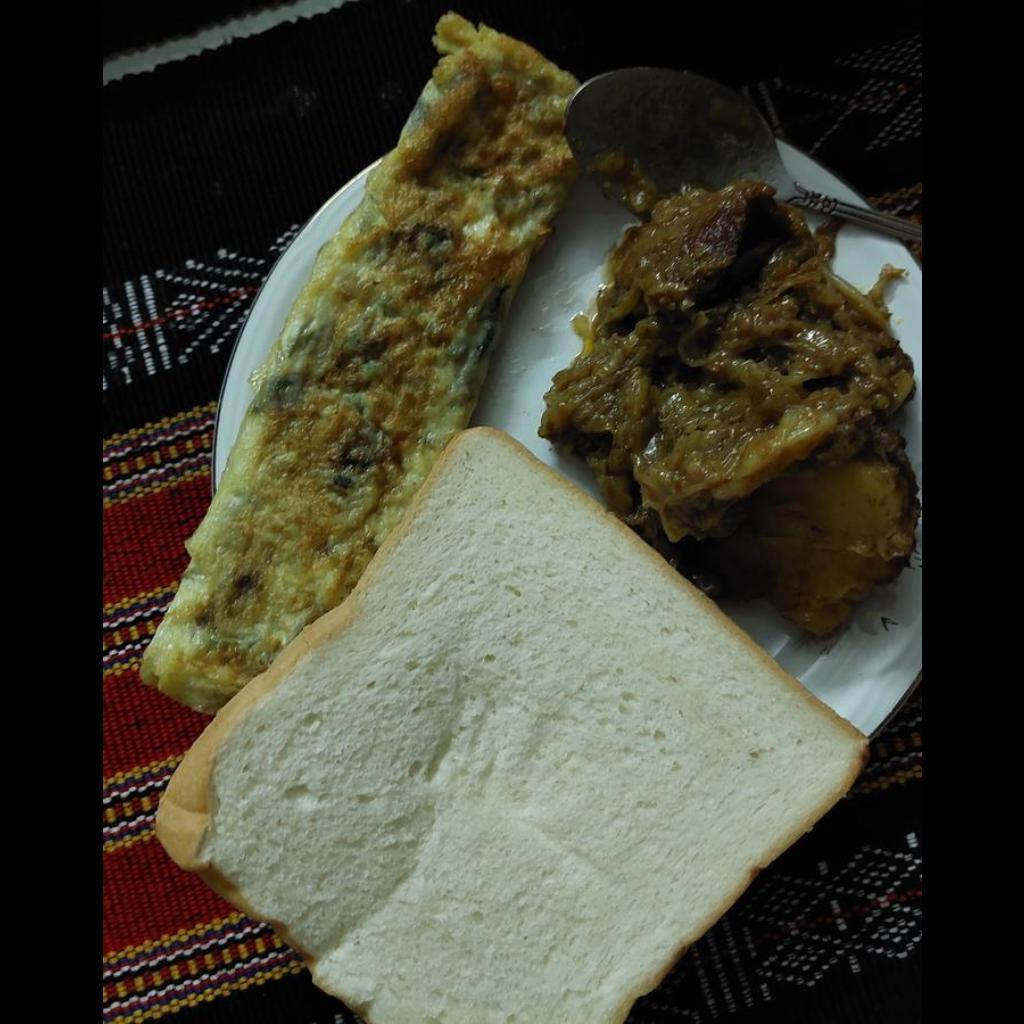beef: (536, 185, 904, 499)
bread: (155, 424, 871, 1022)
egg-poached: (139, 13, 568, 716)
